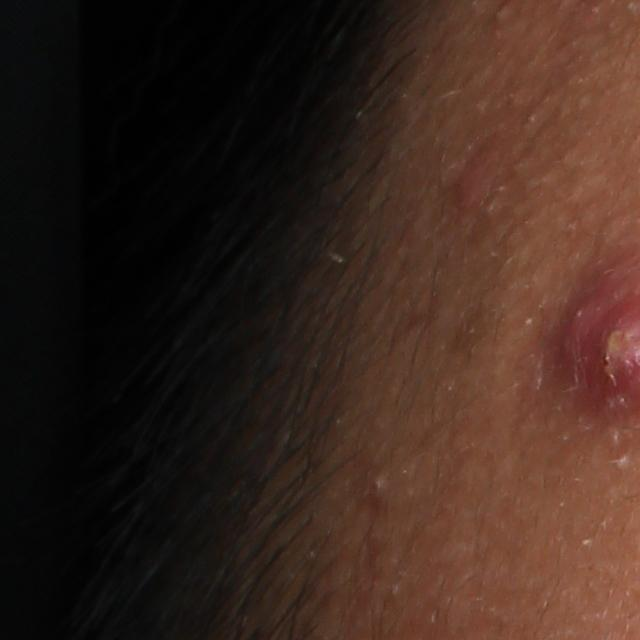comedo: (362, 467, 391, 507), (611, 449, 636, 476)
papule: (453, 158, 490, 213)
